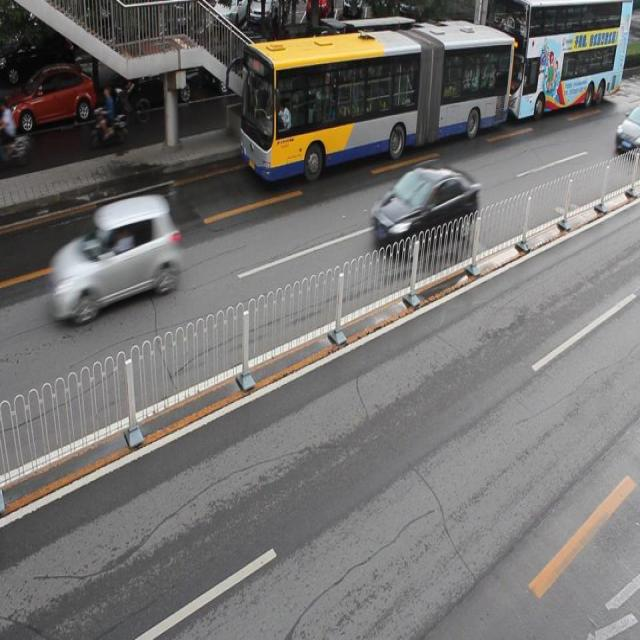car: (56, 196, 176, 320), (372, 160, 477, 257), (0, 64, 94, 130), (104, 48, 198, 107), (290, 33, 362, 93), (208, 33, 276, 96), (613, 106, 640, 159)
van: (241, 21, 512, 178), (485, 1, 630, 119)
